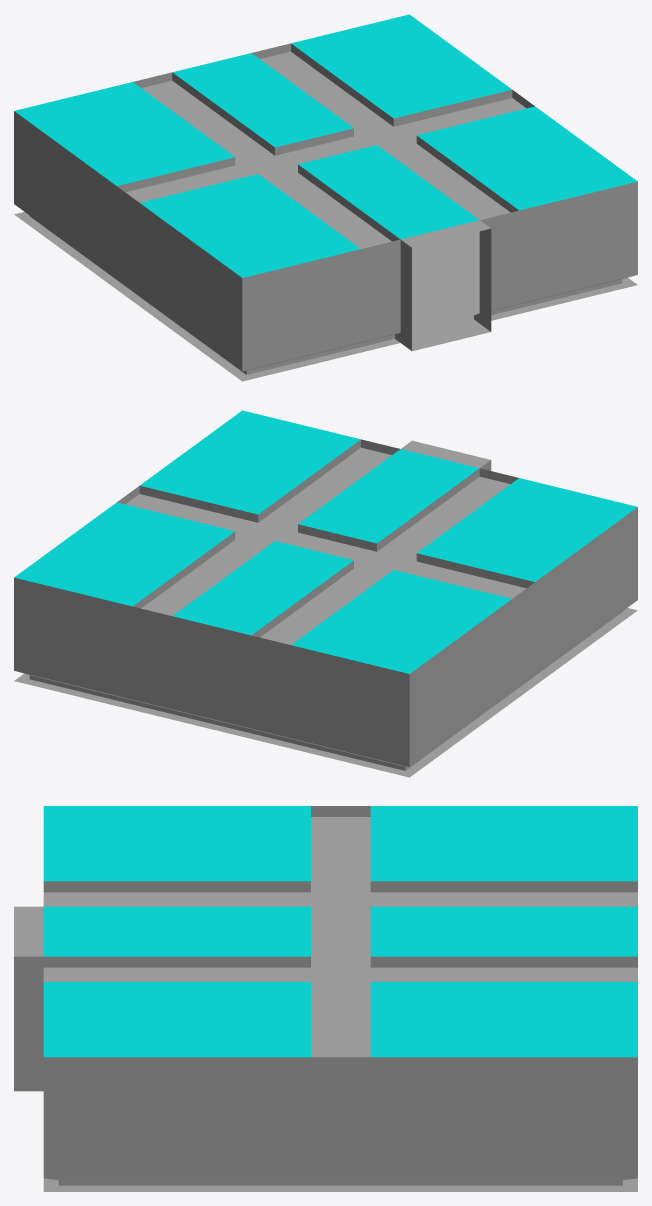
File: Rooms1&2.fbx
3 views of the same model, one above another, from view 1: azimuth 30°, elevation 25°; view 2: azimuth 150°, elevation 25°; view 3: azimuth 270°, elevation 25° (orthographic). The views are drawn at different scales.
Parts seen in each view (by area): view 1: Walls_Ceiling, Window1, Window2, Window4, Window3, Floor, Window6, Window5, DoorwayCeling; view 2: Walls_Ceiling, Window3, Window4, Window2, Window1, Window5, Window6, Floor, DoorwayCeling; view 3: Walls_Ceiling, Window1, Window2, Window3, Window4, Window5, Window6, Floor, DoorwayCeling.
Part boxes in pixels (<box>): Walls_Ceiling: <box>14,43,637,374</box>; Window1: <box>140,174,360,277</box>; Window2: <box>417,106,637,210</box>; Window4: <box>291,14,511,118</box>; Window3: <box>14,82,234,185</box>; Floor: <box>14,212,637,381</box>; Window6: <box>172,53,353,147</box>; Window5: <box>298,145,479,239</box>; DoorwayCeling: <box>401,220,490,247</box>; Walls_Ceiling: <box>14,439,637,770</box>; Window3: <box>291,570,511,673</box>; Window4: <box>14,502,234,606</box>; Window2: <box>140,410,360,514</box>; Window1: <box>417,478,637,581</box>; Window5: <box>298,449,479,543</box>; Window6: <box>172,541,353,635</box>; Floor: <box>14,608,637,777</box>; DoorwayCeling: <box>401,440,490,468</box>; Walls_Ceiling: <box>14,806,637,1185</box>; Window1: <box>43,806,310,881</box>; Window2: <box>43,982,310,1057</box>; Window3: <box>370,806,637,881</box>; Window4: <box>370,982,637,1057</box>; Window5: <box>43,906,310,956</box>; Window6: <box>370,906,637,956</box>; Floor: <box>43,1178,637,1191</box>; DoorwayCeling: <box>14,906,43,956</box>.
Bounding box in the file's own units: 20 × 5 × 21.
